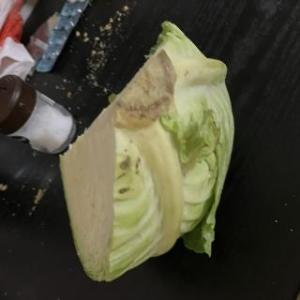cabbage: (58, 20, 236, 282)
